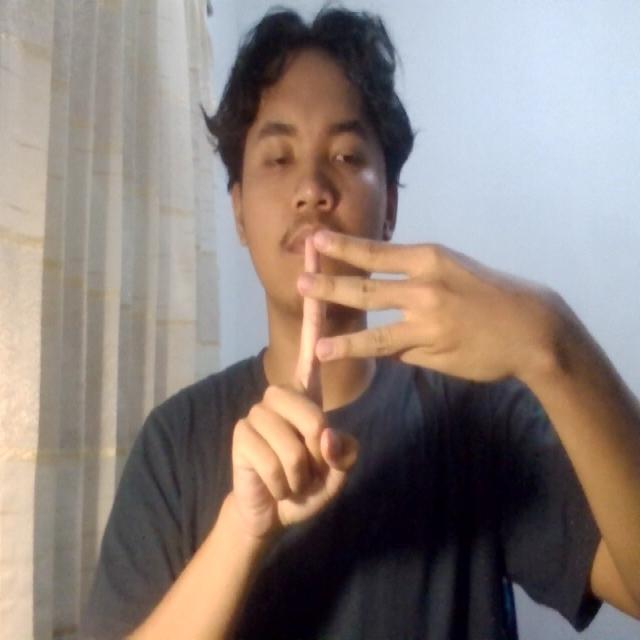B: (215, 212, 545, 553)
